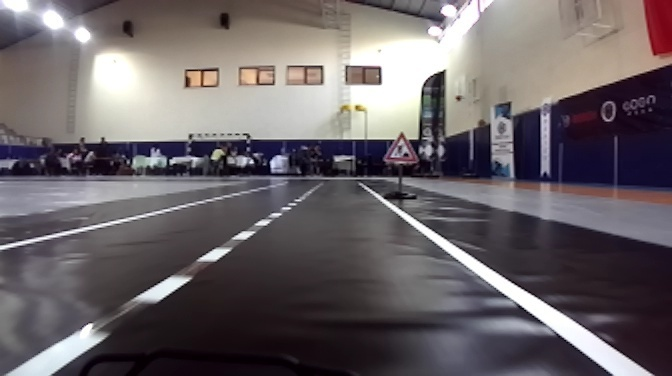yol_yapimi: (383, 130, 424, 163)
